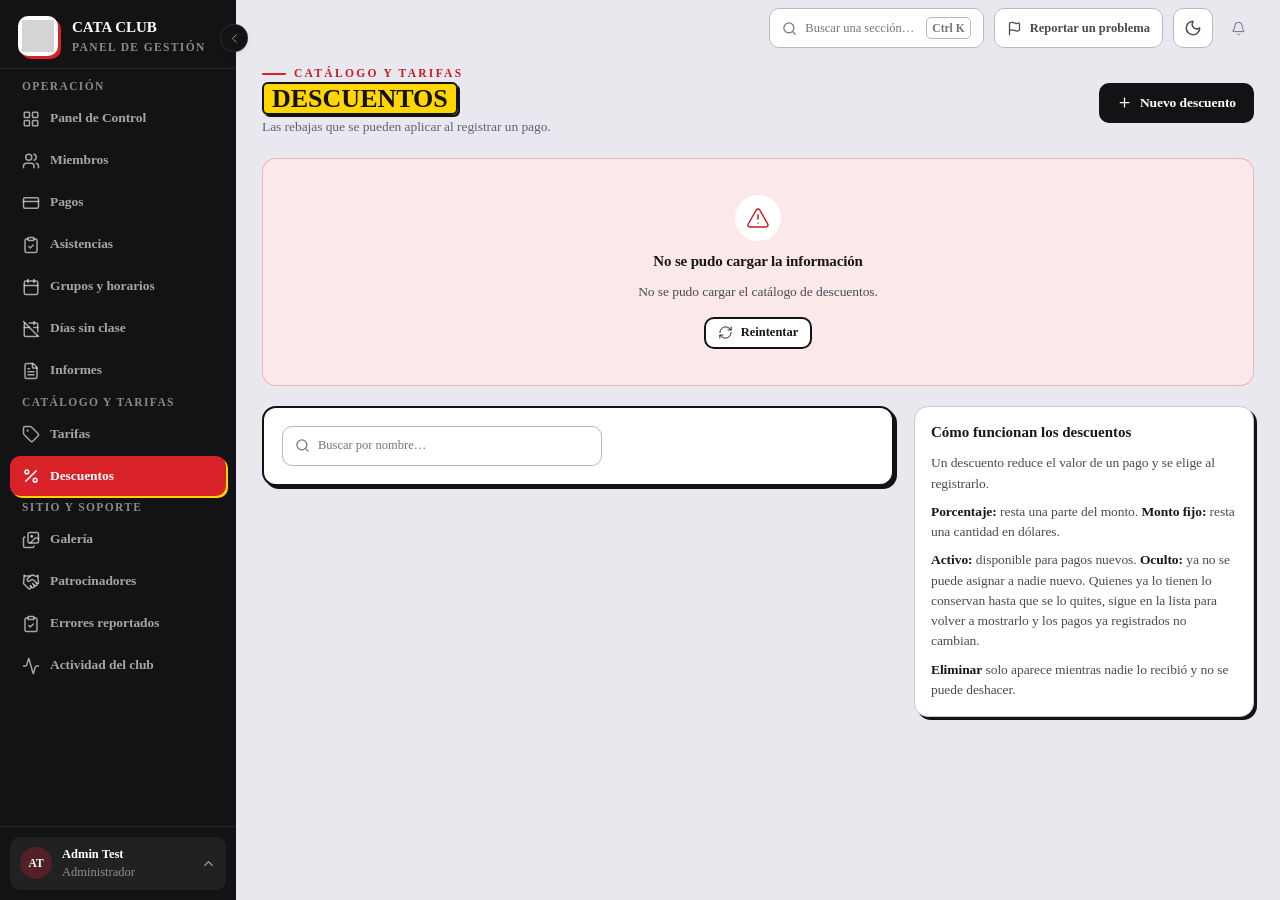
Test case: DiscountsPage — listado › shows an error state with retry when loading fails
The image size is (1280, 900).
Click the button "Reintentar": (758, 333) [704,317,812,349]
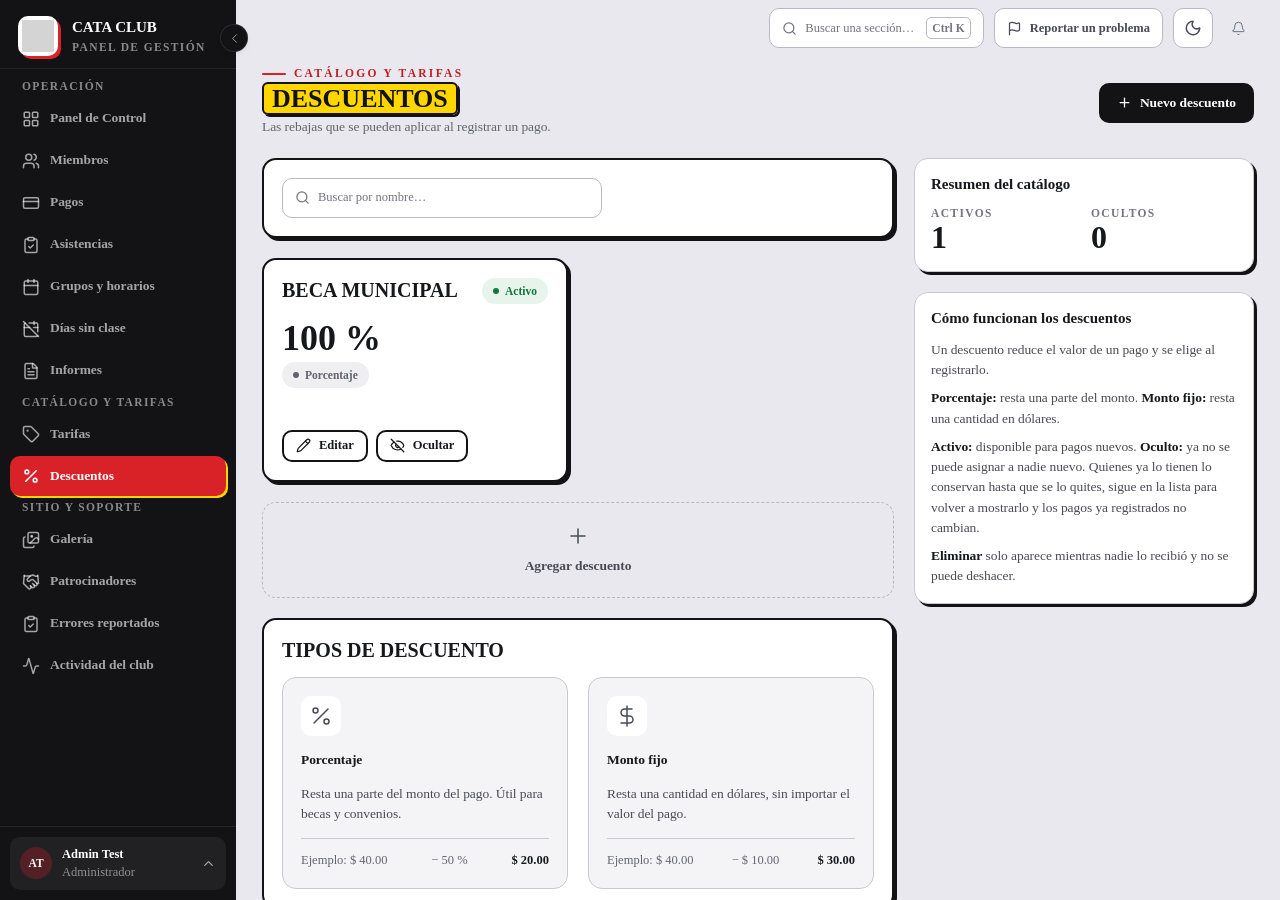
Result: the heading "Beca municipal" is shown at [282,278,474,303]
